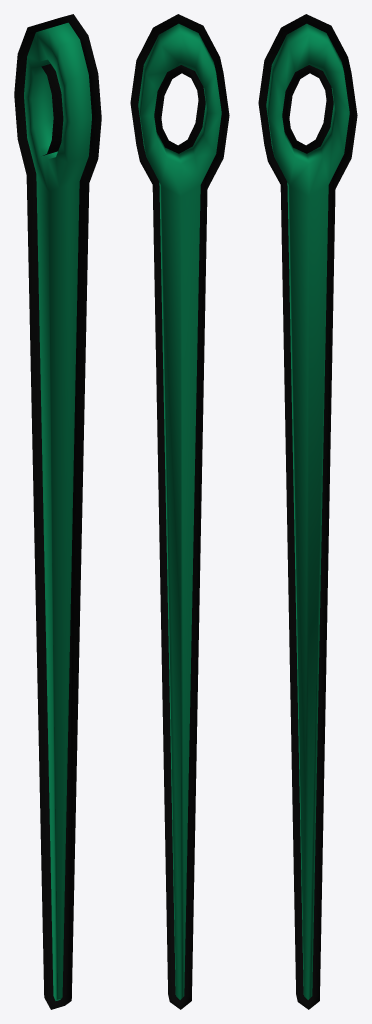
The model's file is Aguja.glb.
3 views of the same model, side by side, from view 1: azimuth 90°, elevation 25°; view 2: azimuth 150°, elevation 25°; view 3: azimuth 330°, elevation 25° (orthographic).
Visible parts, largest first — view 1: Aguja; view 2: Aguja; view 3: Aguja.
Boxes of the visible parts, box(x1,y1,x2,y2) form: Aguja: box(14, 14, 101, 1009); Aguja: box(130, 14, 229, 1009); Aguja: box(258, 14, 357, 1009).
Bounding box in the file's own units: 2.01 × 21.62 × 1.73.
